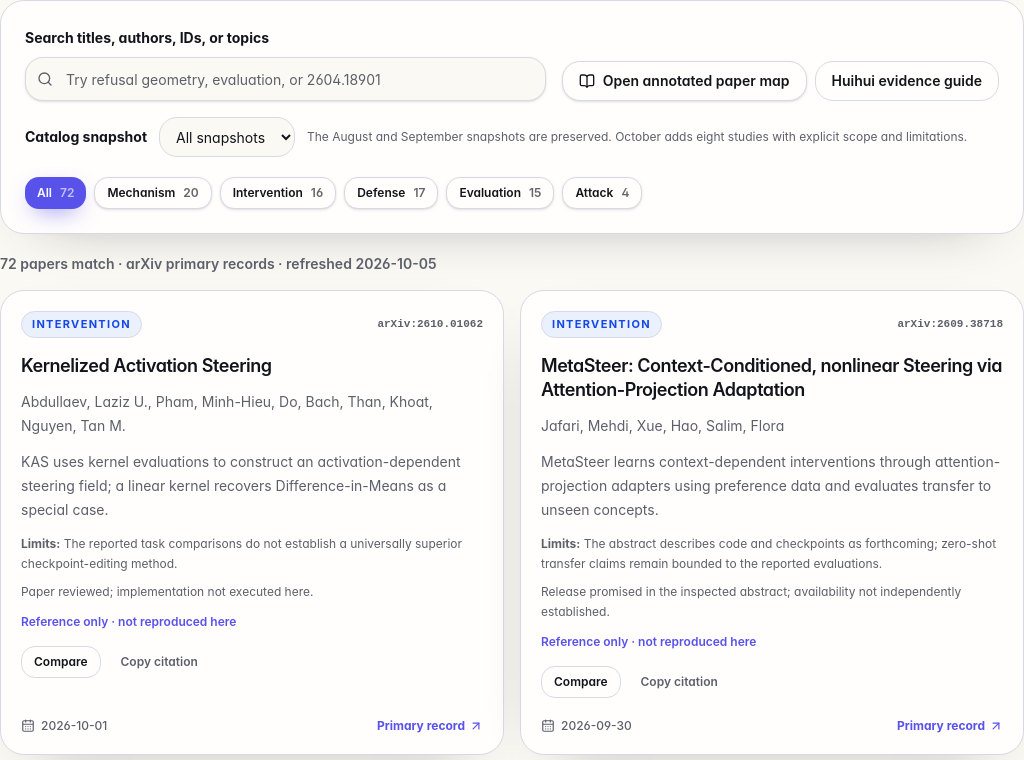
Test: selective research controls › preserves the August snapshot and compares versioned new references
Expected: the text "72 papers match · arXiv primary records · refreshed 2026-10-05" is shown, [0, 255, 436, 272]
Select "2026-08-23" in the dropdown labelled "Catalog snapshot" at (227, 137), box [159, 117, 295, 157]
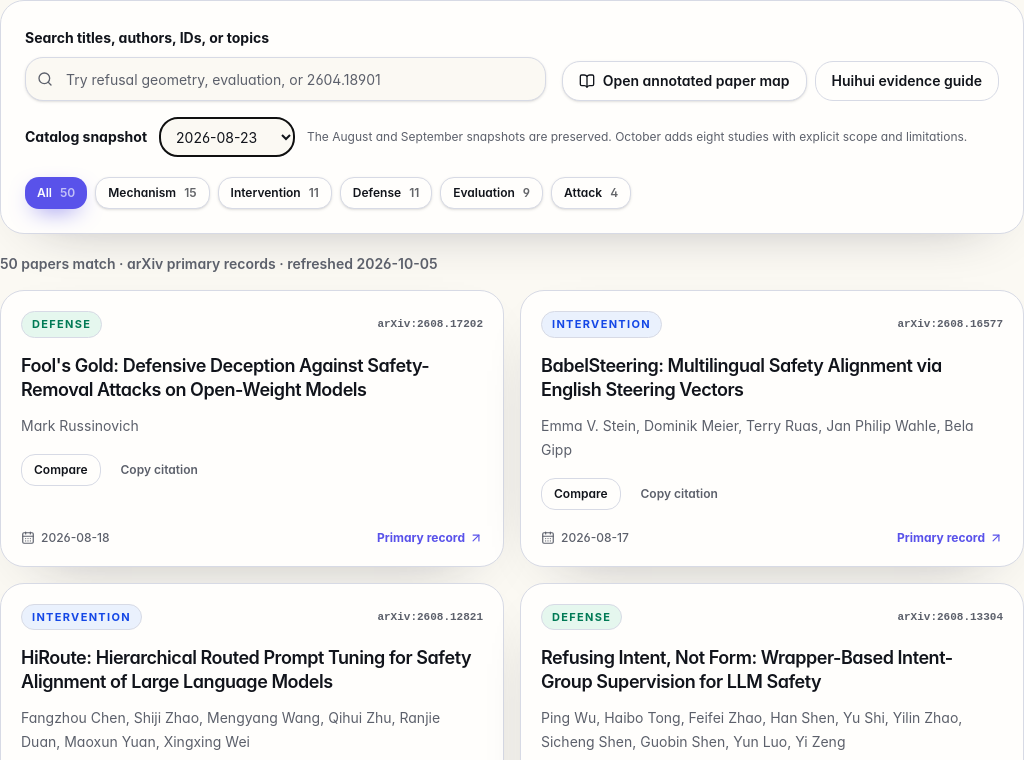
Result: the text "50 papers match · arXiv primary records · refreshed 2026-10-05" is shown at [0, 255, 438, 272]
Select "2026-09-22" in the dropdown labelled "Catalog snapshot" at (227, 137), box [159, 117, 295, 157]
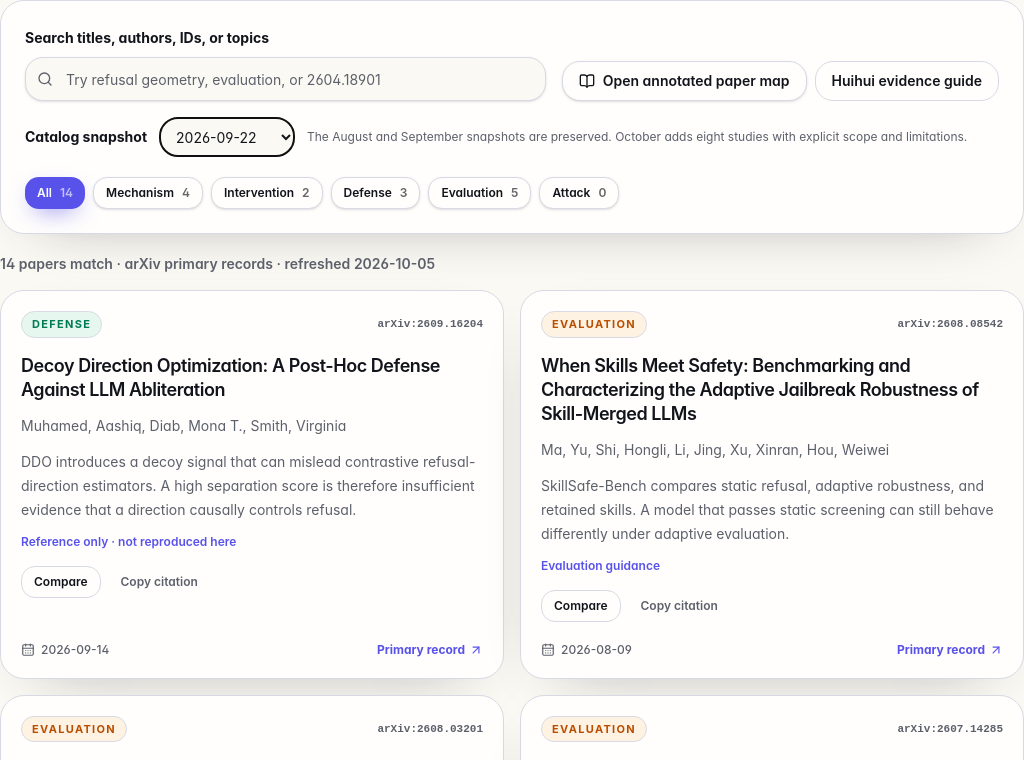
Result: the text "14 papers match · arXiv primary records · refreshed 2026-10-05" is shown at [0, 255, 435, 272]
Type "2609.16204" into the field labelled "Search titles, authors, IDs, or topics" at (285, 79), box [25, 57, 546, 101]
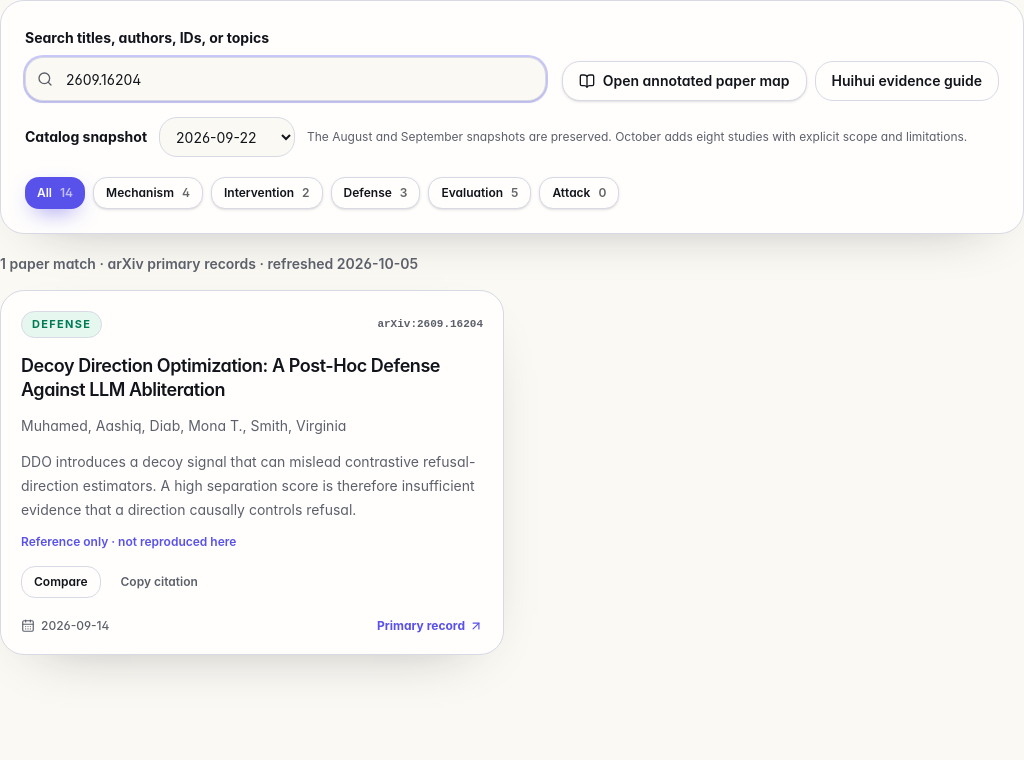
Click the button with aria-label "Compare 2609.16204" at (61, 582), box [21, 566, 100, 598]
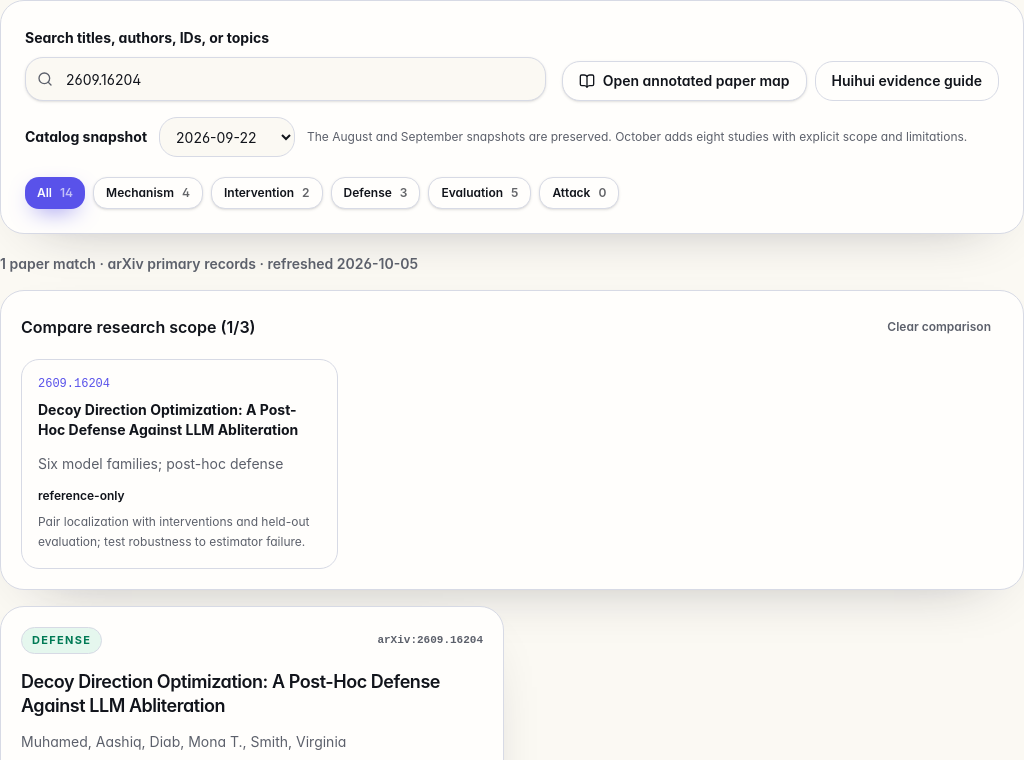
Result: the heading "Compare research scope (1/3)" is shown at [21, 315, 256, 339]
Click the button "Clear comparison" at (939, 327), box [875, 311, 1003, 343]
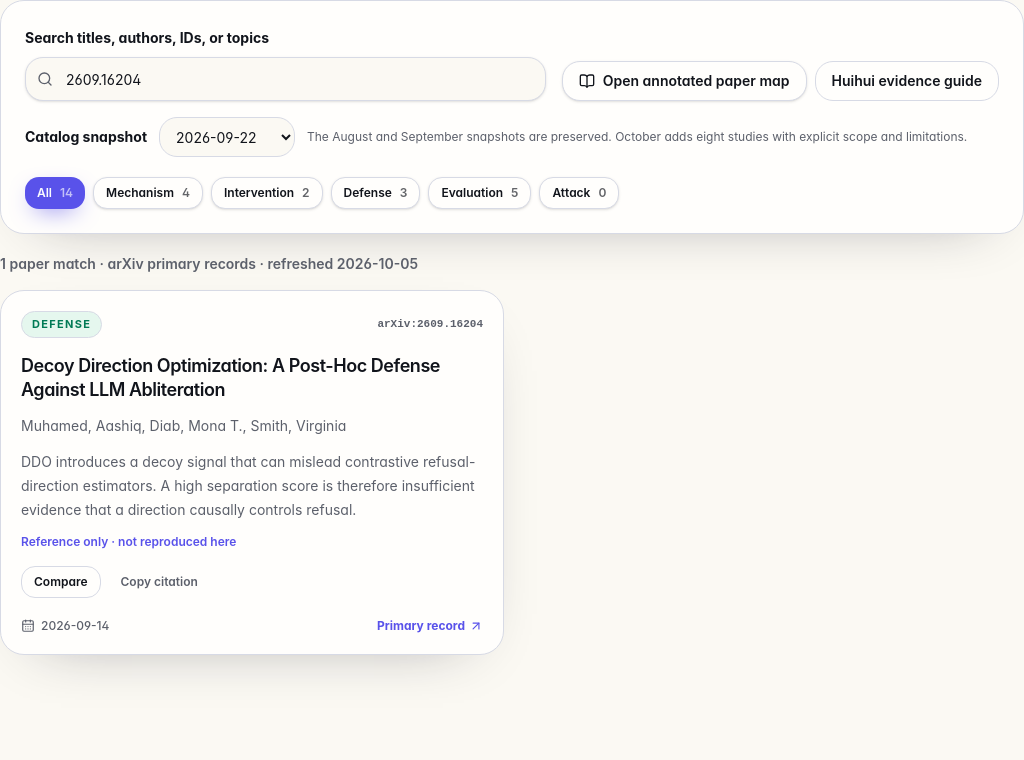
Result: the heading "Compare research scope" is gone
